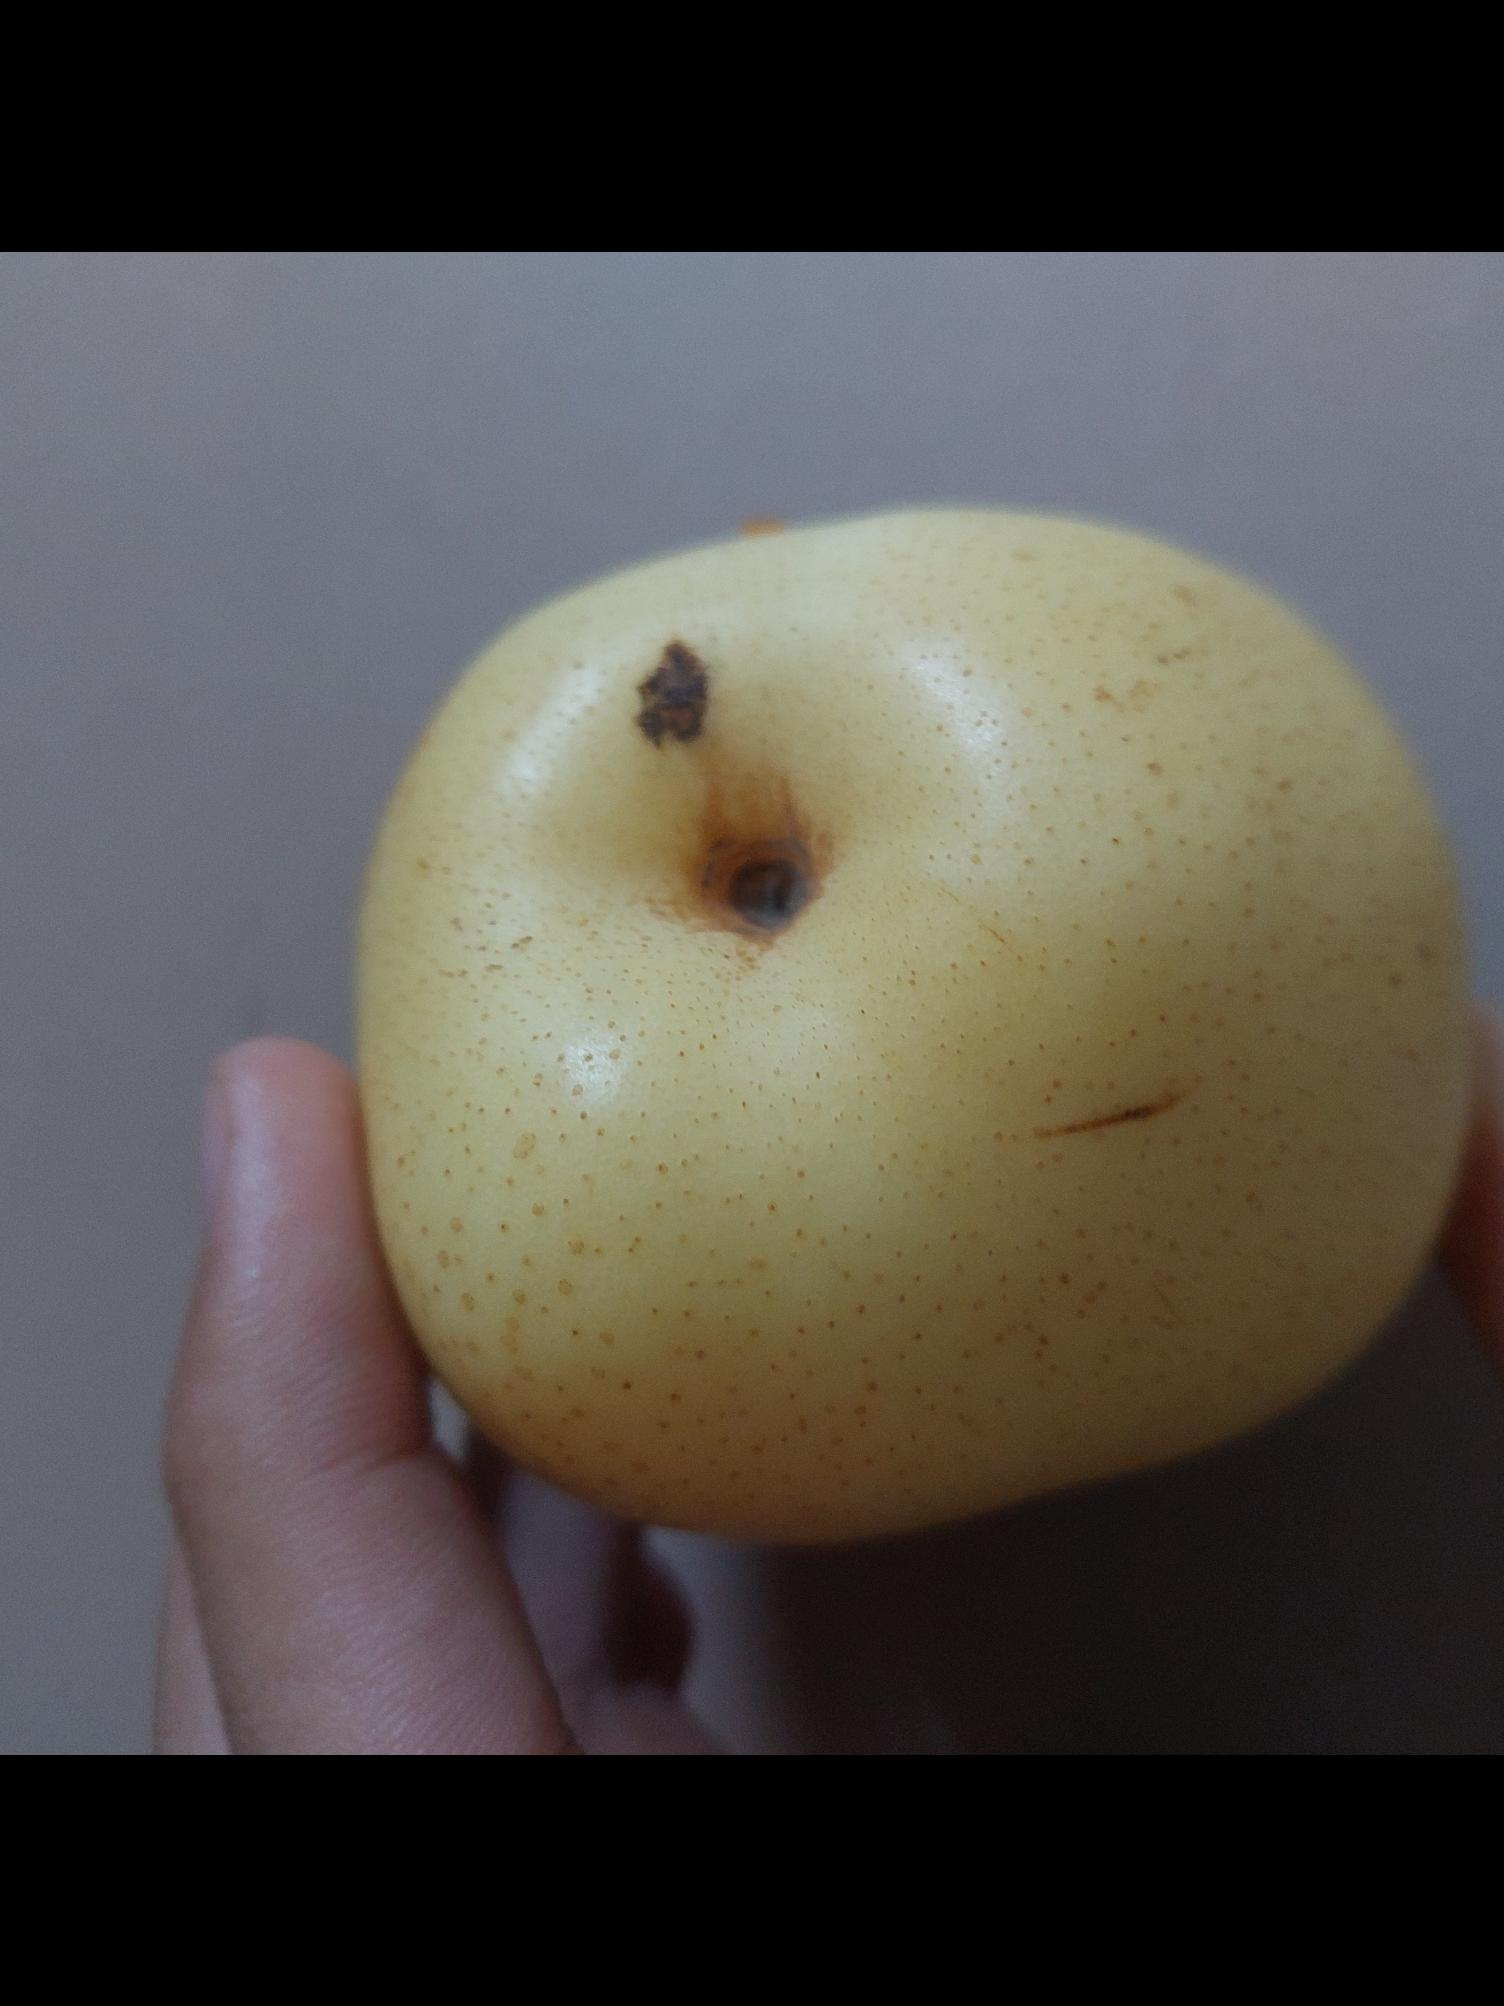Good Pear: (340, 501, 1491, 1543)
